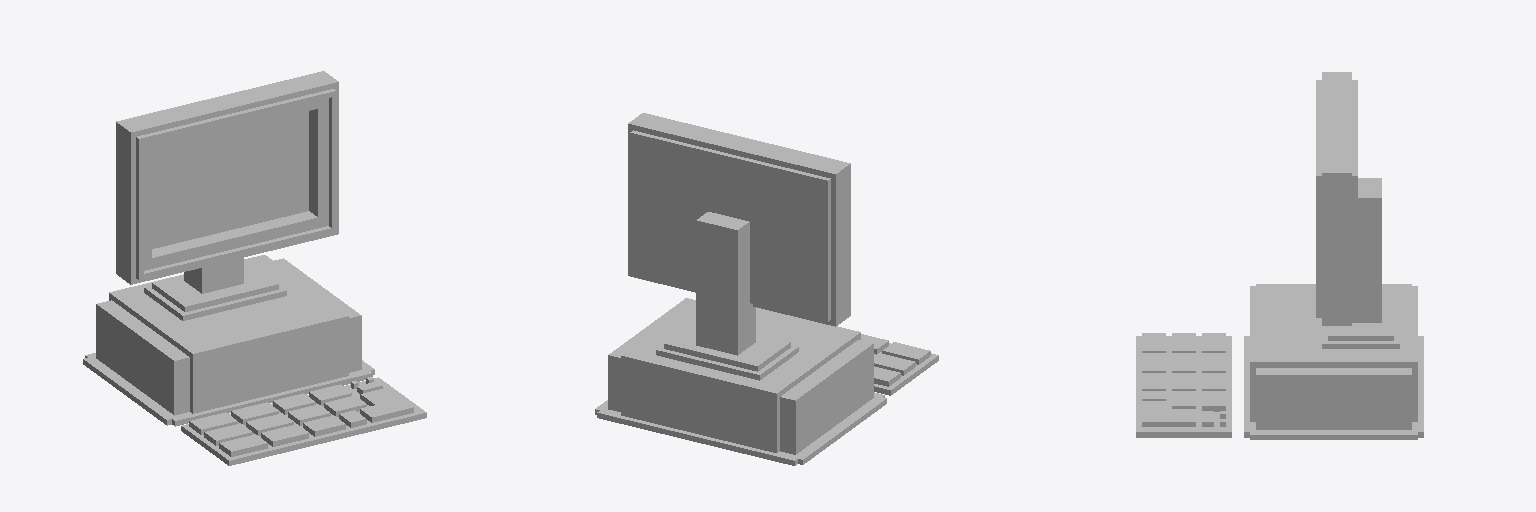
Rendered from computer.obj.
3 renders of one model, left to right at view 1: azimuth 30°, elevation 25°; view 2: azimuth 150°, elevation 25°; view 3: azimuth 270°, elevation 25°, orthographic.
Bounding box in the file's own units: 40 × 49 × 48.